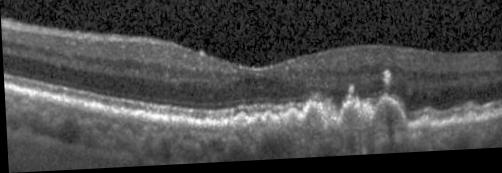retinal_drusen: (372, 105, 402, 130), (339, 108, 362, 134), (303, 107, 324, 134), (481, 111, 502, 126), (285, 114, 298, 130), (416, 121, 431, 133), (234, 118, 246, 131), (462, 116, 476, 127), (263, 117, 273, 129), (449, 121, 457, 130), (254, 119, 261, 128)
